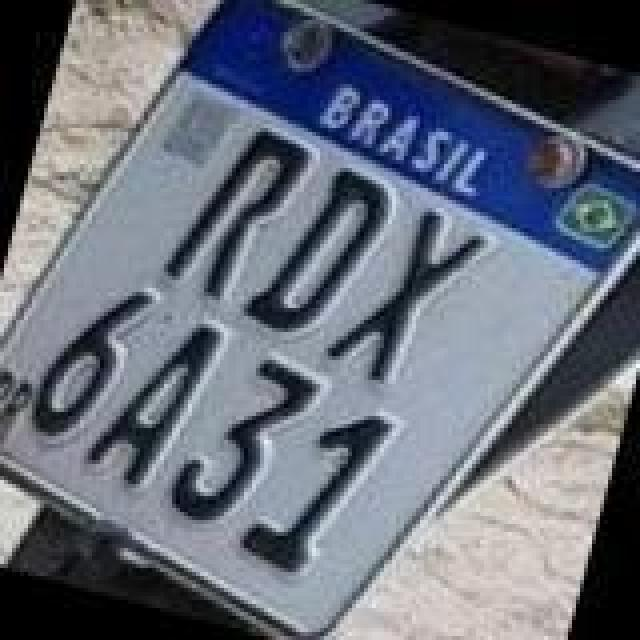1: (234, 386, 398, 590)
3: (160, 338, 328, 542)
6: (22, 264, 162, 456)
A: (76, 298, 228, 502)
D: (236, 148, 404, 356)
R: (158, 114, 322, 318)
X: (320, 190, 496, 402)
